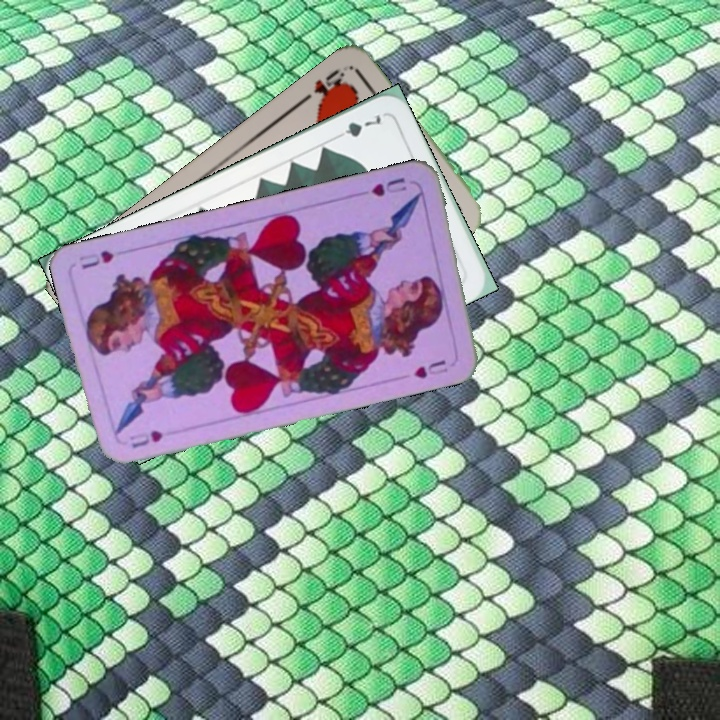G7: (330, 110, 384, 143)
HO: (298, 64, 349, 105)
HU: (367, 173, 409, 199), (125, 426, 165, 451)
